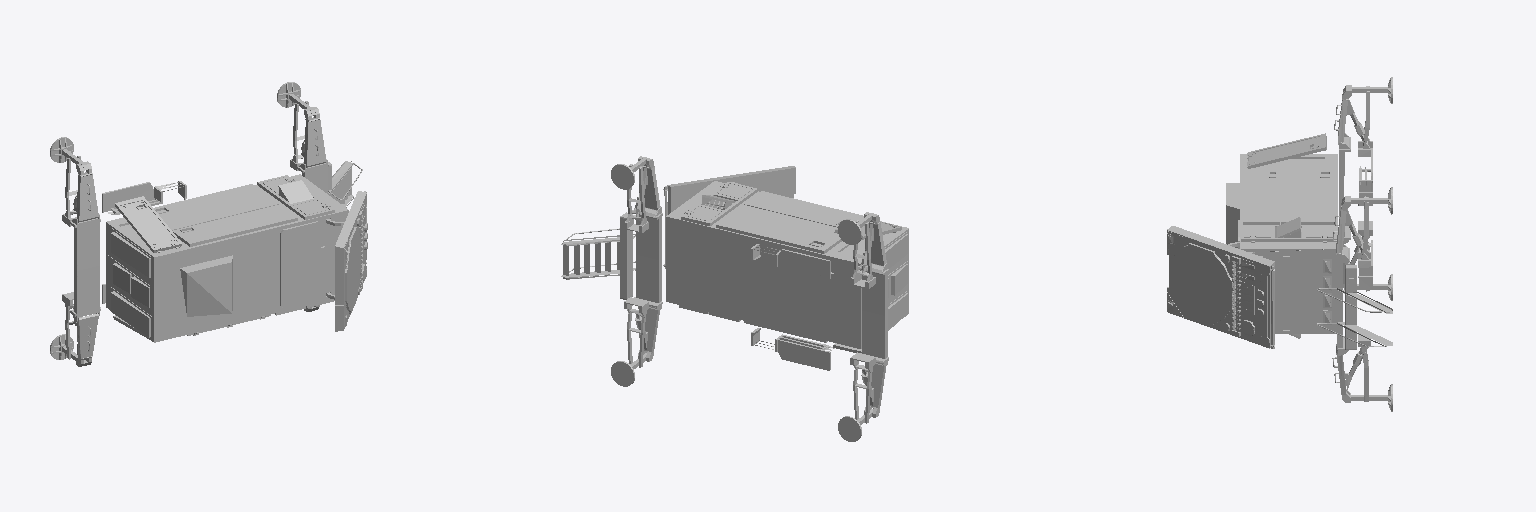
Rendered from PhasedArrayRadar.obj.
The picture shows the model from 3 angles: view 1: azimuth 30°, elevation 25°; view 2: azimuth 150°, elevation 25°; view 3: azimuth 270°, elevation 25°; orthographic projection.
Visible parts, largest first — view 1: PATRIOT_54_2_0, PATRIOT_29_2_0, PATRIOT_51_2_0, PATRIOT_46_2_0, PATRIOT_50_2_0, PATRIOT_48_2_0, PATRIOT_53_2_0, PATRIOT_39_2_0, PATRIOT_34_2_0, PATRIOT_40_2_0, PATRIOT_p7_2_0, PATRIOT_PA1_2_0 (+3 smaller); view 2: PATRIOT_54_2_0, PATRIOT_34_2_0, PATRIOT_29_2_0, PATRIOT_46_2_0, PATRIOT_53_2_0, PATRIOT_48_2_0, PATRIOT_25_2_0, PATRIOT_p5_2_0, PATRIOT_p7_2_0, PATRIOT_40_2_0, PATRIOT_p6_2_0, PATRIOT_R9_2_0 (+7 smaller); view 3: PATRIOT_54_2_0, PATRIOT_53_2_0, PATRIOT_PA1_2_0, PATRIOT_46_2_0, PATRIOT_48_2_0, PATRIOT_34_2_0, PATRIOT_39_2_0, PATRIOT_40_2_0, PATRIOT_29_2_0, PATRIOT_50_2_0, PATRIOT_p6_2_0, PATRIOT_R4_2_0 (+3 smaller).
Boxes of the visible parts, box(x1,y1,x2,y2) form: PATRIOT_54_2_0: box(106, 174, 348, 342); PATRIOT_29_2_0: box(69, 161, 100, 366); PATRIOT_51_2_0: box(280, 221, 326, 307); PATRIOT_46_2_0: box(154, 184, 278, 230); PATRIOT_50_2_0: box(180, 255, 232, 316); PATRIOT_48_2_0: box(173, 204, 297, 246); PATRIOT_53_2_0: box(326, 191, 366, 331); PATRIOT_39_2_0: box(115, 196, 181, 252); PATRIOT_34_2_0: box(297, 107, 328, 311); PATRIOT_40_2_0: box(257, 175, 334, 315); PATRIOT_p7_2_0: box(102, 181, 186, 214); PATRIOT_PA1_2_0: box(345, 218, 367, 313); PATRIOT_54_2_0: box(666, 181, 908, 348); PATRIOT_34_2_0: box(632, 156, 662, 361); PATRIOT_29_2_0: box(858, 212, 888, 417); PATRIOT_46_2_0: box(716, 205, 841, 253); PATRIOT_53_2_0: box(663, 166, 795, 268); PATRIOT_48_2_0: box(744, 191, 863, 227); PATRIOT_25_2_0: box(561, 234, 635, 279); PATRIOT_p5_2_0: box(751, 328, 834, 370); PATRIOT_p7_2_0: box(751, 244, 833, 279); PATRIOT_40_2_0: box(679, 182, 757, 321); PATRIOT_p6_2_0: box(620, 212, 632, 299); PATRIOT_R9_2_0: box(850, 352, 875, 423); PATRIOT_54_2_0: box(1240, 154, 1337, 333); PATRIOT_53_2_0: box(1167, 226, 1274, 348); PATRIOT_PA1_2_0: box(1170, 243, 1263, 336); PATRIOT_46_2_0: box(1281, 169, 1335, 224); PATRIOT_48_2_0: box(1243, 169, 1279, 224); PATRIOT_34_2_0: box(1336, 196, 1350, 402); PATRIOT_39_2_0: box(1247, 133, 1326, 168); PATRIOT_40_2_0: box(1241, 217, 1336, 338); PATRIOT_29_2_0: box(1338, 85, 1351, 289); PATRIOT_50_2_0: box(1226, 183, 1239, 247); PATRIOT_p6_2_0: box(1345, 265, 1356, 349); PATRIOT_R4_2_0: box(1345, 196, 1370, 267).
Bounding box in the file's own units: 0.9998 × 0.7015 × 0.6487.